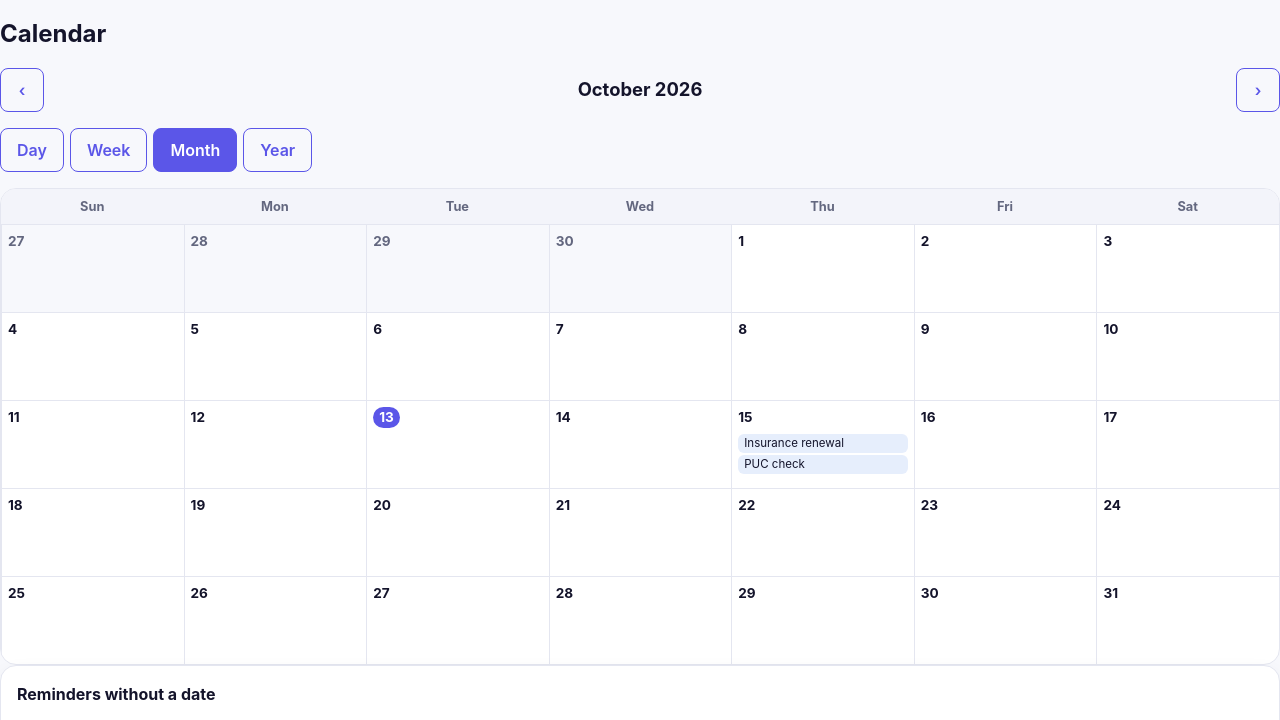
Test: Calendar views (Base design) › shows a week list with the reminders on their days
Click the button "Week".
click(109, 150)  # box [70,128,147,172]
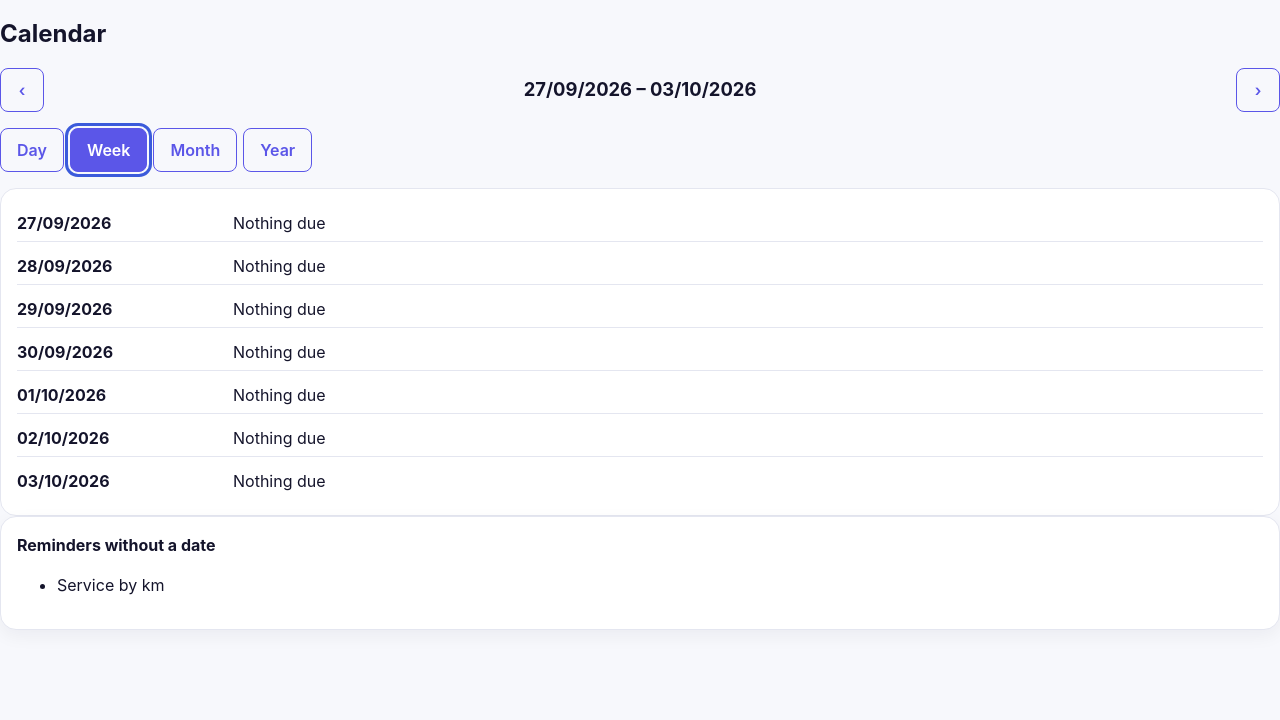
Click the button named "Next week".
click(1258, 90)  # box [1236,68,1279,112]
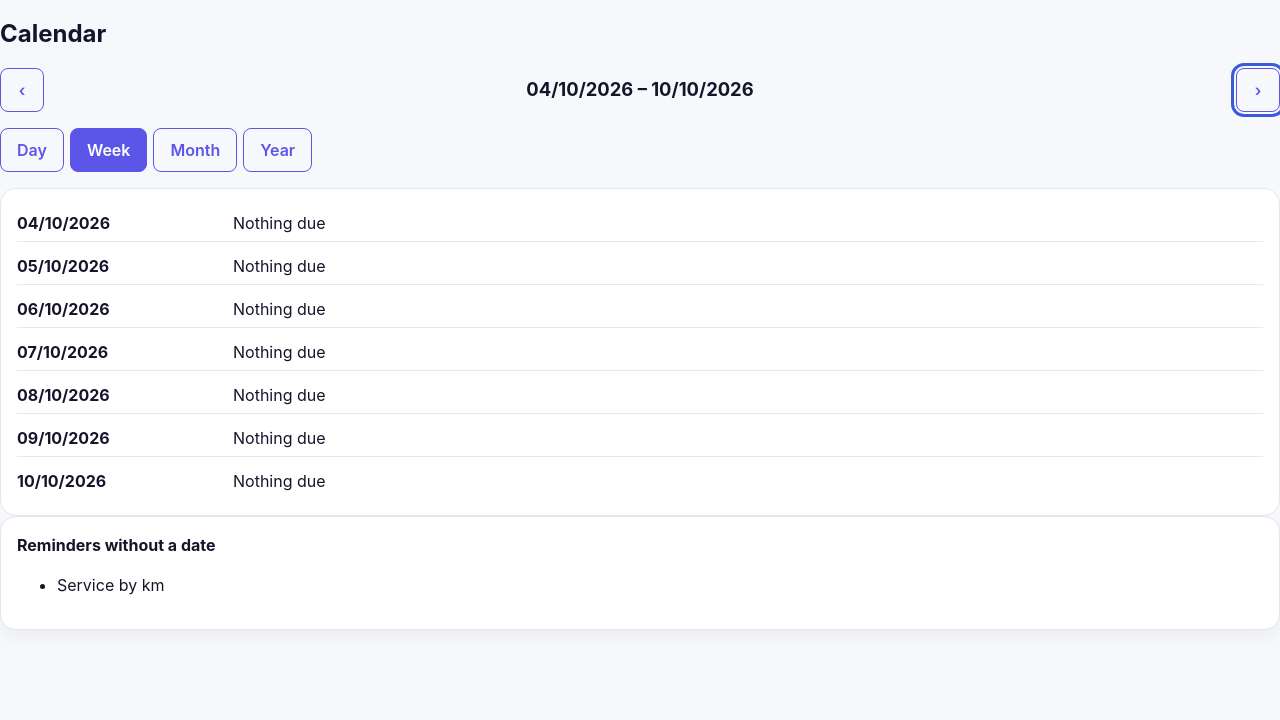
Click the button named "Next week".
click(1258, 90)  # box [1236,68,1279,112]
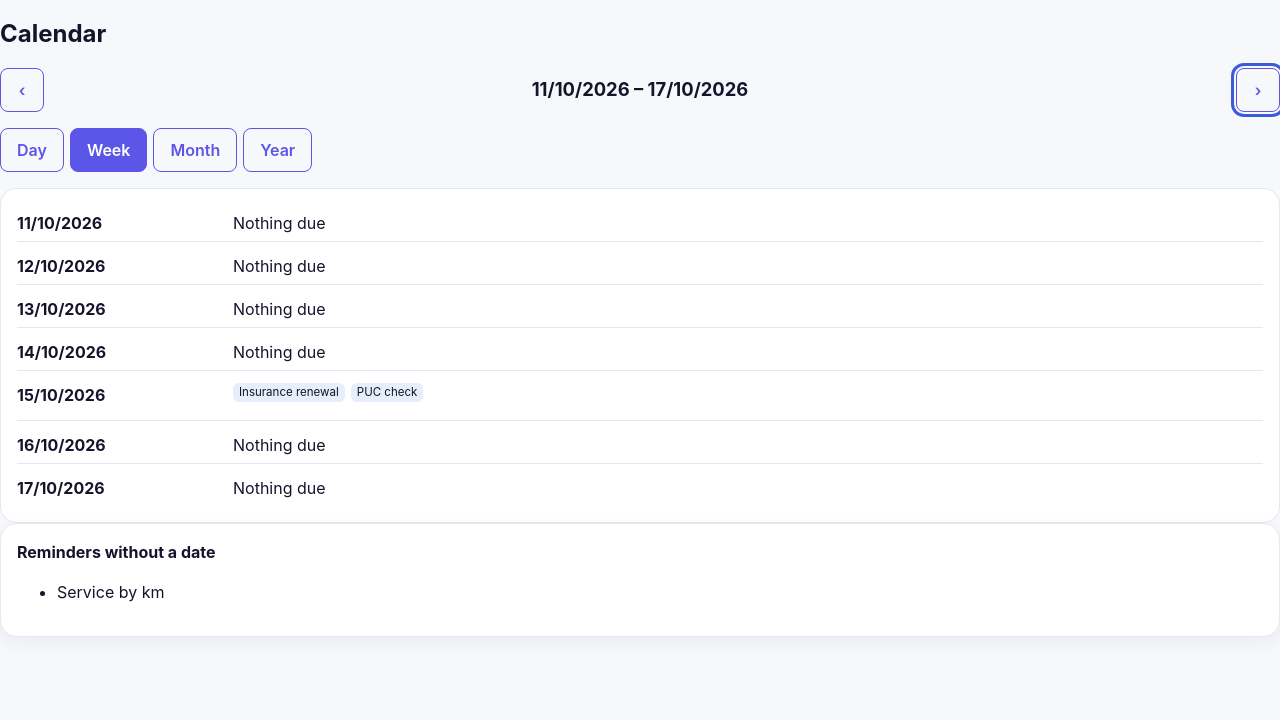
Expected: the text "Insurance renewal" is shown, [233,383,345,402]
Expected: the text "PUC check" is shown, [351,383,423,402]
